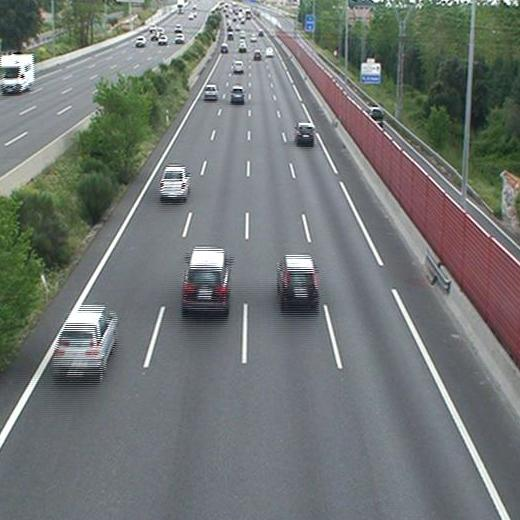car: (54, 309, 115, 374), (184, 250, 229, 310), (277, 256, 317, 304), (160, 168, 189, 197), (295, 124, 313, 143), (203, 84, 217, 99), (231, 87, 244, 102), (233, 61, 244, 72), (220, 45, 228, 54), (253, 51, 261, 58)
